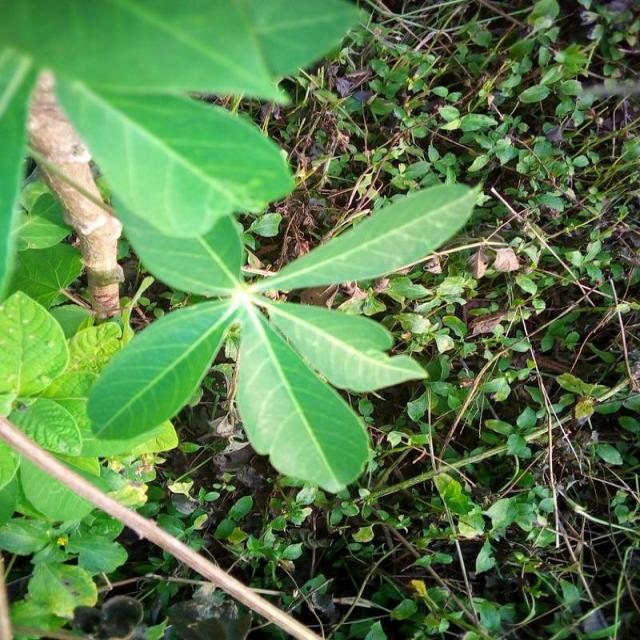cassava leaf: (84, 178, 484, 494), (54, 74, 296, 296), (235, 302, 372, 494), (254, 180, 484, 294), (84, 295, 239, 445)
